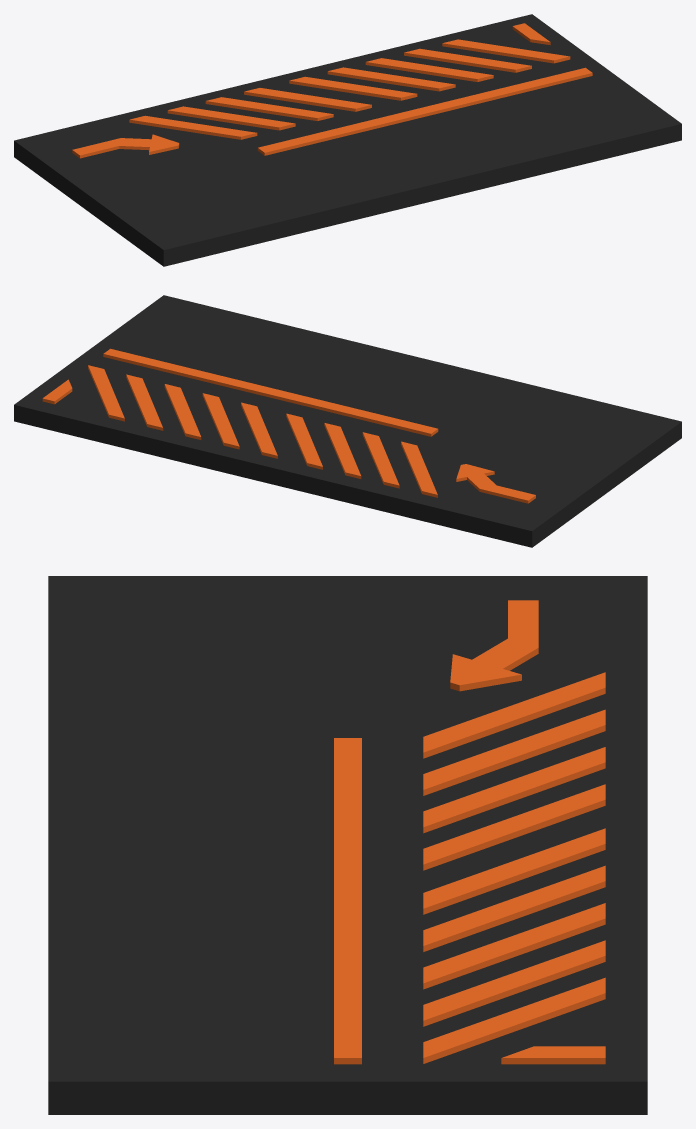
Rendered from Road_07.FBX.
3 renders of one model, top to bottom at view 1: azimuth 30°, elevation 25°; view 2: azimuth 150°, elevation 25°; view 3: azimuth 270°, elevation 25°, orthographic. The views are drawn at different scales.
Visible parts, largest first — view 1: Road_07; view 2: Road_07; view 3: Road_07.
Part boxes in pixels (x1,y1,x2,y2): Road_07: (14,14,681,266); Road_07: (14,295,681,547); Road_07: (48,576,647,1114).
Size of the model in its own units: 19.97 by 0.725 by 10.
